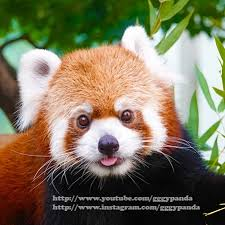redPanda: (17, 19, 189, 206)
